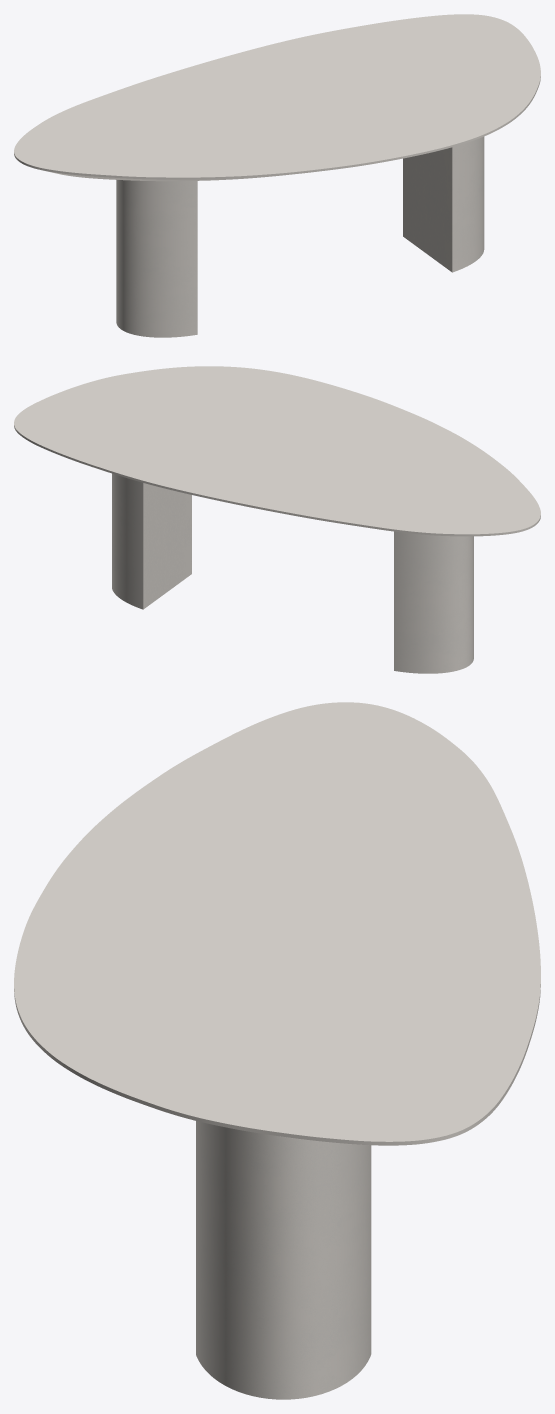
File: pearlwhite_pebbletop_facet_hillside.glb
3 views of the same model, one above another, from view 1: azimuth 30°, elevation 25°; view 2: azimuth 150°, elevation 25°; view 3: azimuth 270°, elevation 25° (orthographic). The views are drawn at different scales.
Visible parts, largest first — view 1: facet_pebbletop, hillside; view 2: facet_pebbletop, hillside; view 3: facet_pebbletop, hillside.
Boxes of the visible parts, x1,y1,x2,y2 form: facet_pebbletop: (14, 14, 540, 181); hillside: (116, 136, 484, 337); facet_pebbletop: (14, 366, 540, 536); hillside: (112, 473, 473, 673); facet_pebbletop: (14, 702, 540, 1145); hillside: (196, 1121, 371, 1399).
Bounding box in the file's own units: 7.5 × 2.5 × 3.8.
1 material, 1 textured.
